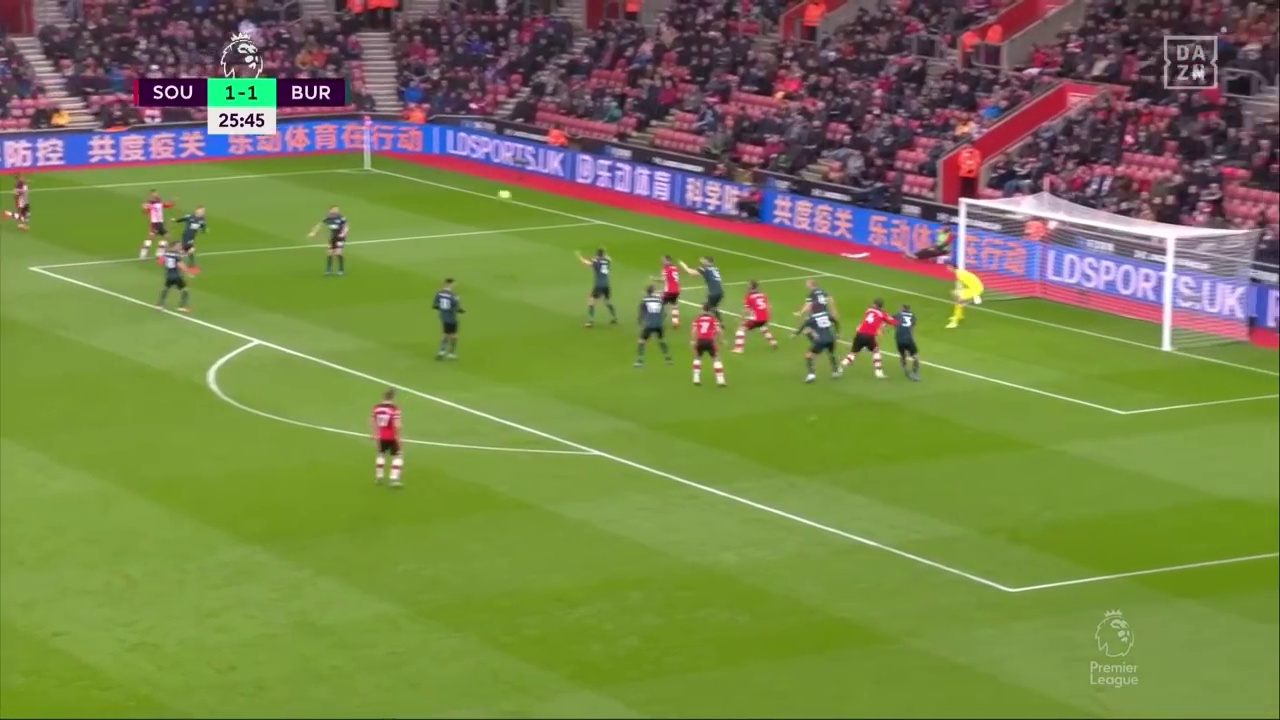ball: (495, 188, 513, 206)
player: (838, 297, 901, 380), (793, 297, 844, 385), (366, 388, 409, 489), (573, 244, 620, 330), (631, 282, 676, 370), (678, 252, 729, 324), (687, 302, 729, 389), (732, 279, 780, 355), (428, 277, 469, 363), (791, 276, 843, 342), (306, 205, 353, 278), (154, 242, 198, 314), (136, 188, 179, 261), (943, 262, 988, 330), (172, 203, 210, 272), (890, 302, 922, 383), (647, 255, 681, 328), (1, 174, 36, 233)
